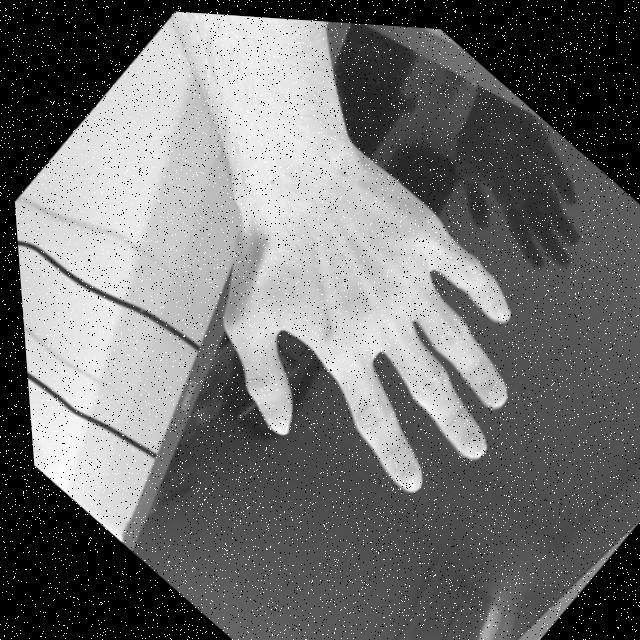hand: (149, 114, 595, 559)
